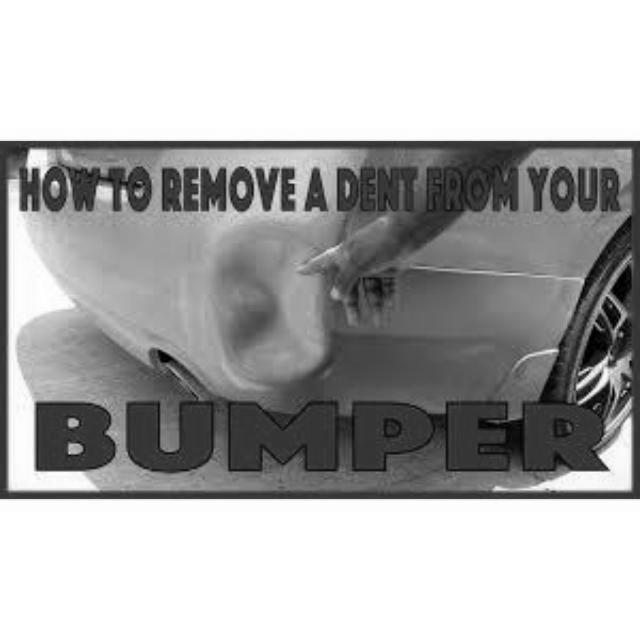rear-bumper-dent: (58, 224, 593, 422)
